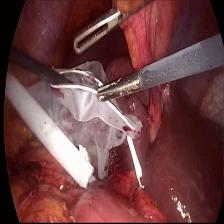Grasper: (71, 4, 121, 56), (96, 72, 140, 105)
Specimen Bag: (6, 58, 149, 213)
